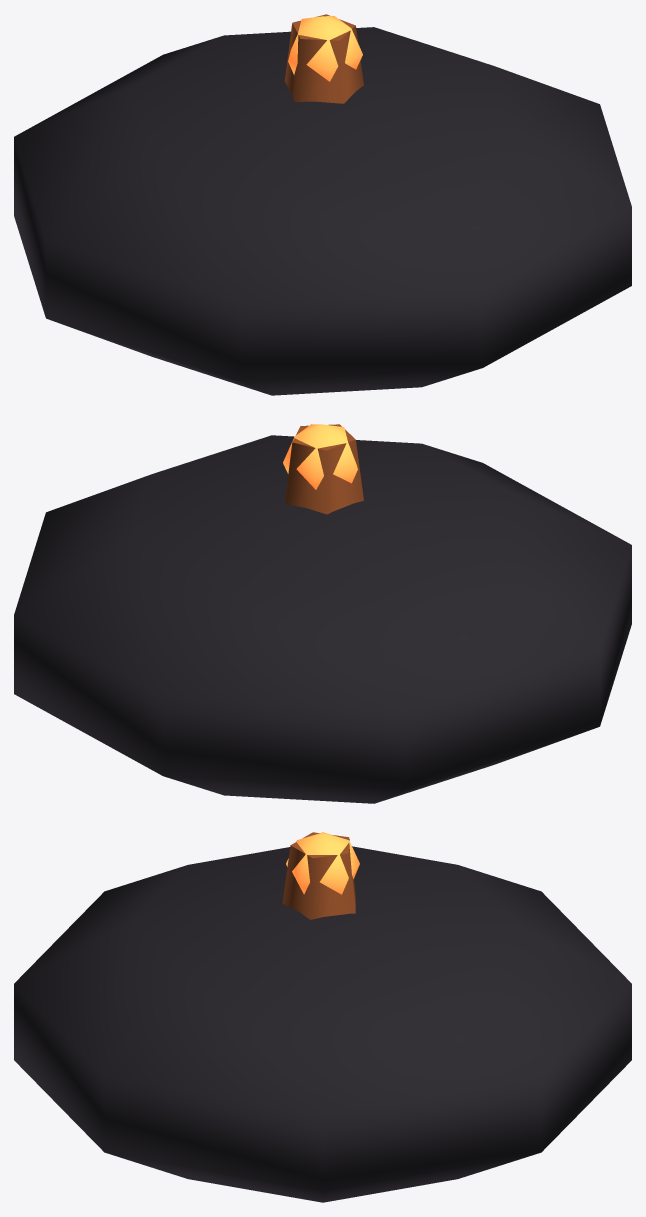
The model's file is mine_pickup.glb.
3 views of the same model, one above another, from view 1: azimuth 30°, elevation 25°; view 2: azimuth 150°, elevation 25°; view 3: azimuth 270°, elevation 25° (orthographic). The views are drawn at different scales.
Parts seen in each view (by area): view 1: shell, fuse, spark; view 2: shell, fuse, spark; view 3: shell, fuse, spark.
Boxes of the visible parts, x1,y1,x2,y2 form: shell: [14, 27, 631, 395]; fuse: [284, 14, 363, 103]; spark: [288, 16, 362, 81]; shell: [14, 435, 631, 803]; fuse: [284, 424, 363, 514]; spark: [283, 424, 357, 489]; shell: [14, 846, 631, 1202]; fuse: [282, 832, 355, 919]; spark: [286, 832, 359, 894].
Bounding box in the file's own units: 0.0951 × 0.053 × 0.0951.
